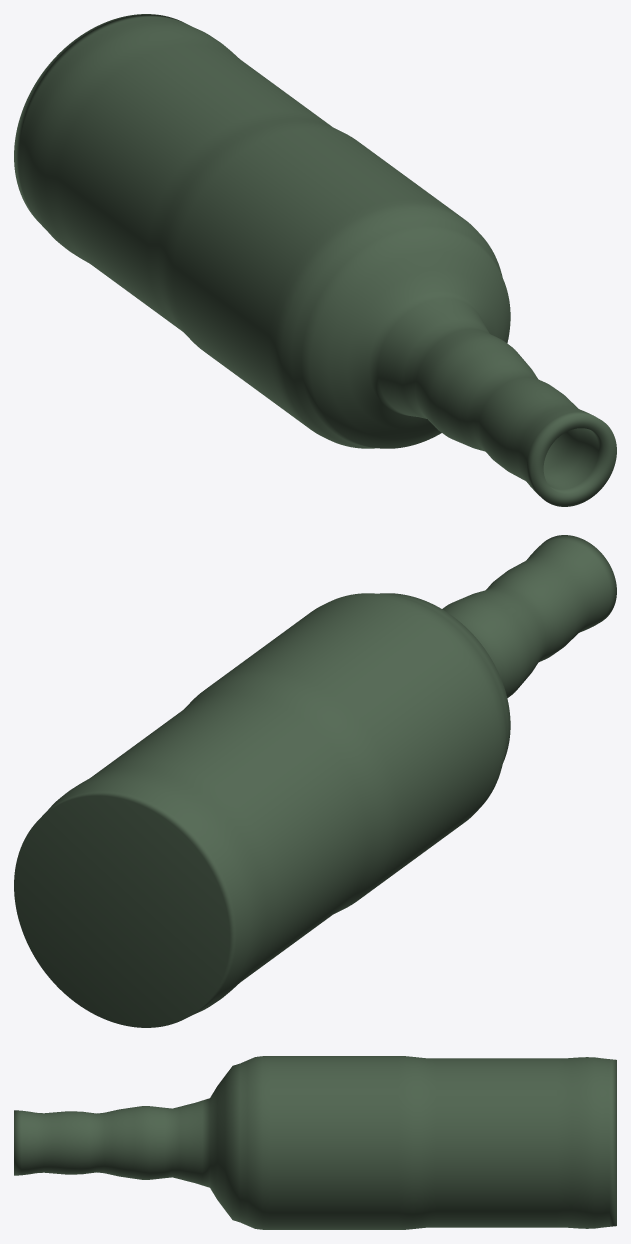
The model's file is maniphys_wine_bottle.glb.
The picture shows the model from 3 angles, top to bottom: view 1: azimuth 30°, elevation 25°; view 2: azimuth 150°, elevation 25°; view 3: azimuth 270°, elevation 25°; orthographic projection. The views are drawn at different scales.
Size of the model in its own units: 0.053 by 0.053 by 0.184.
